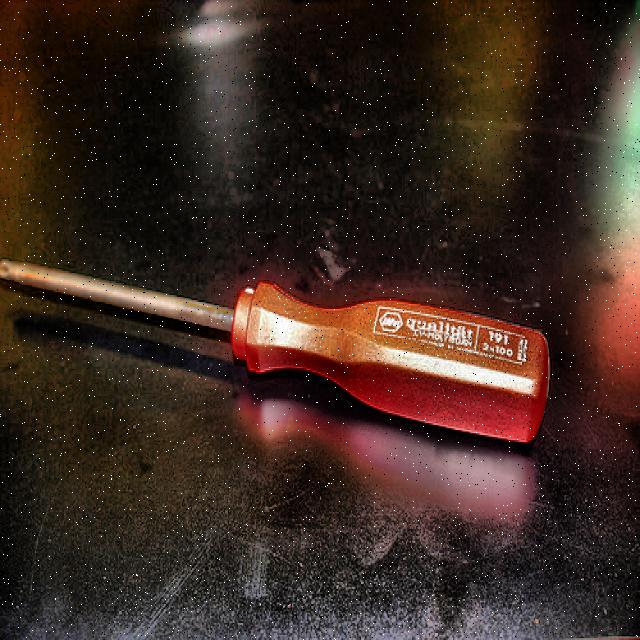screwdriver: (0, 260, 551, 446)
